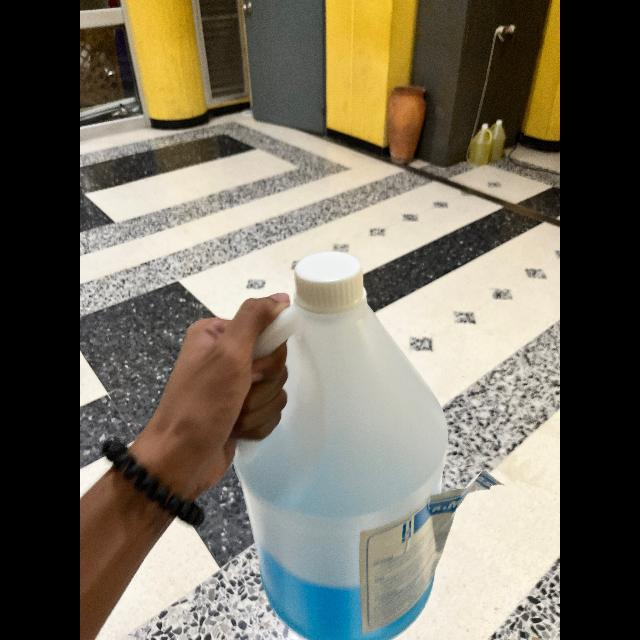chemical_plastic_gallon: (218, 242, 458, 640)
